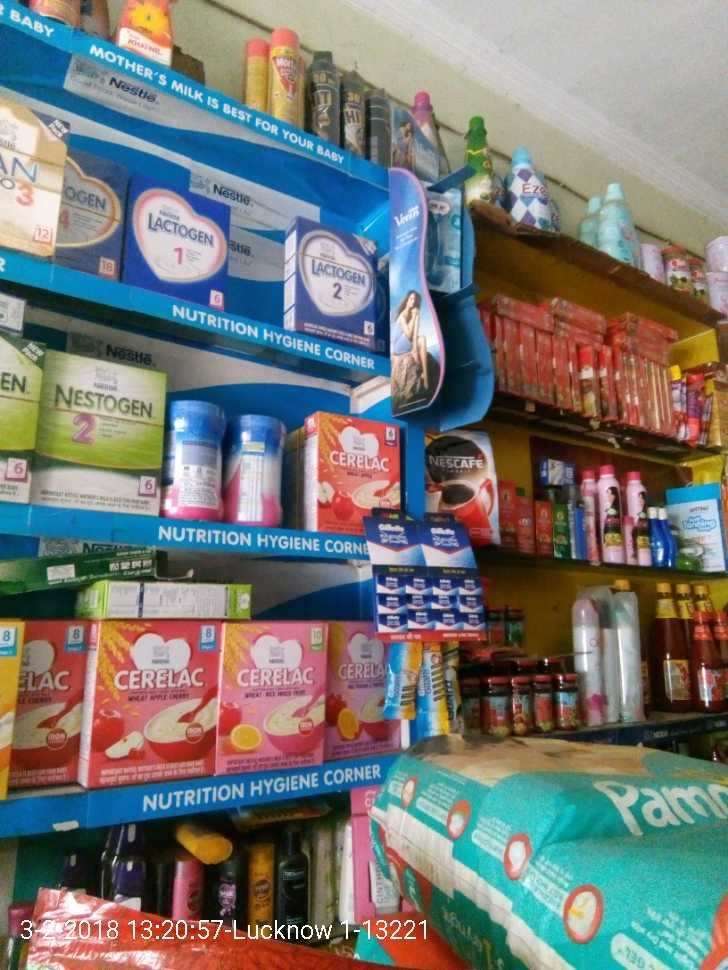reject: (238, 230, 431, 393)
